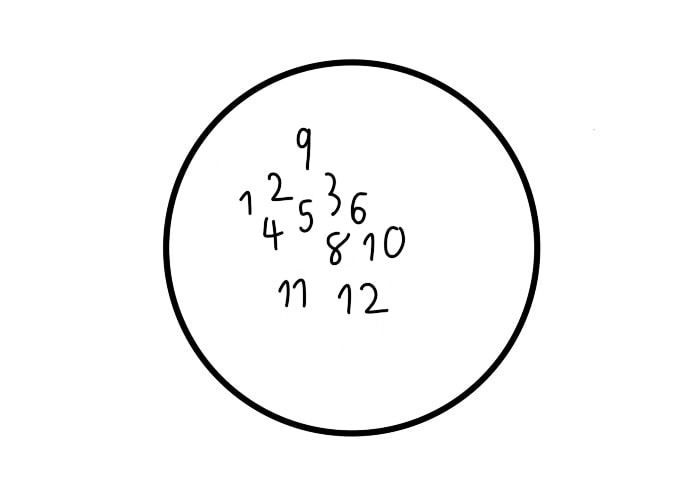eleven: (278, 273, 308, 310)
five: (298, 197, 313, 233)
four: (262, 213, 282, 253)
nine: (297, 126, 313, 171)
one: (236, 188, 253, 217)
six: (347, 184, 370, 229)
ten: (361, 224, 410, 262)
three: (324, 168, 344, 220)
twelve: (337, 279, 389, 316)
two: (266, 167, 297, 204)
